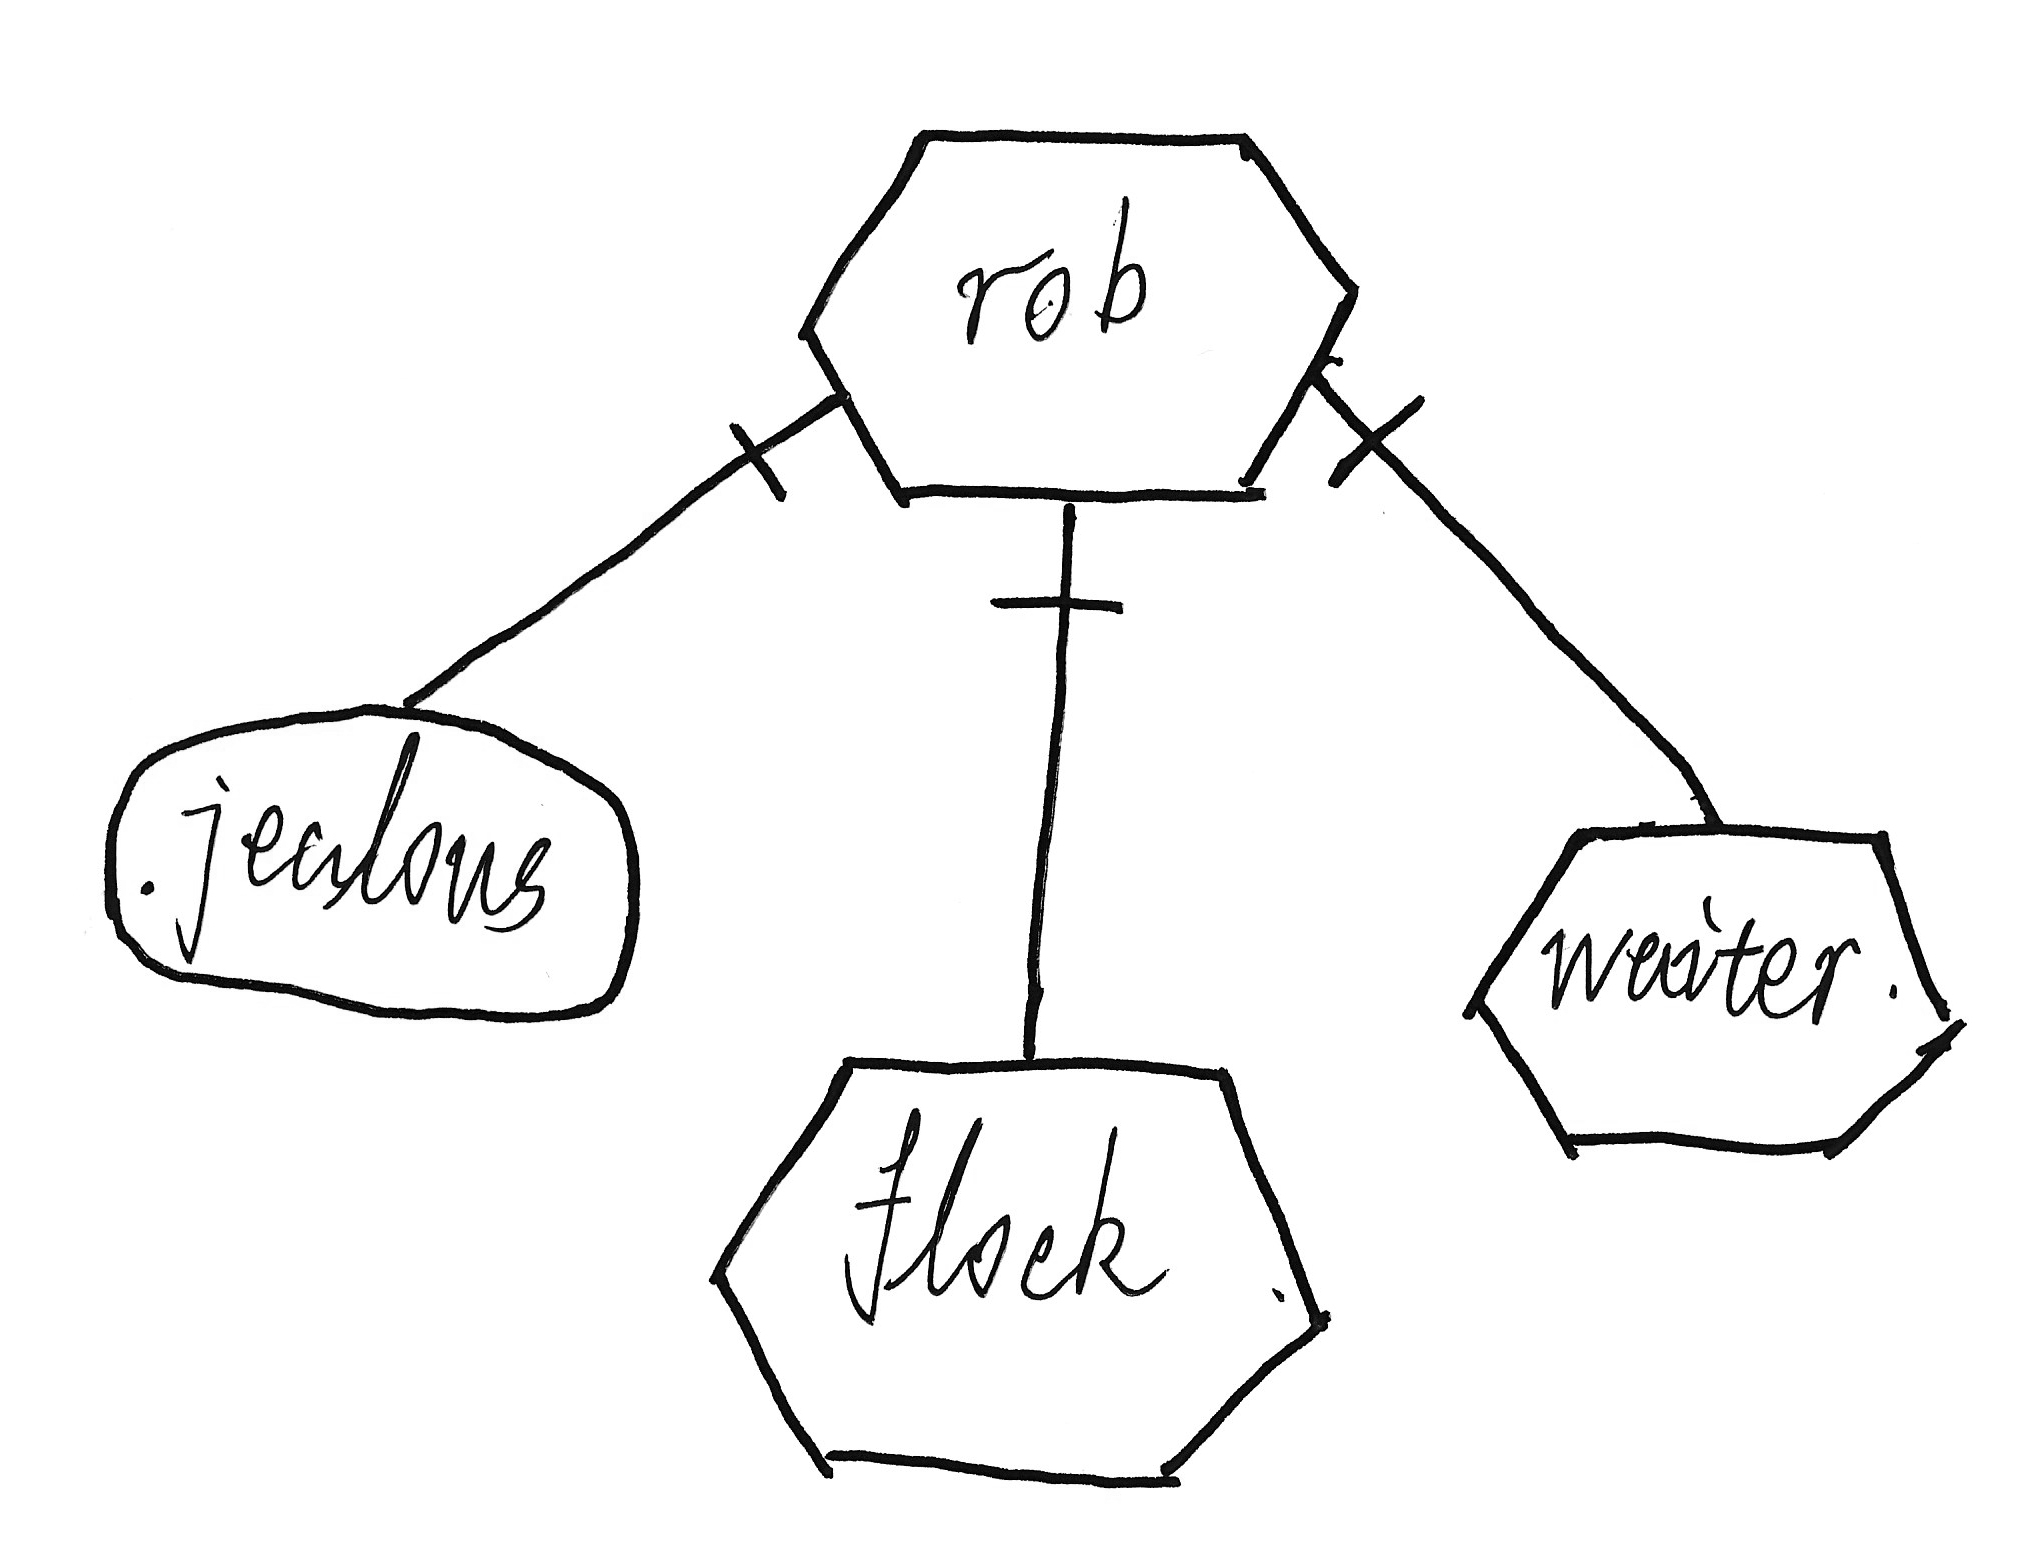and: (982, 529, 1141, 674), (1313, 384, 1453, 519), (703, 395, 814, 530)
goal: (82, 680, 662, 1043)
task: (692, 1033, 1355, 1517), (786, 100, 1374, 535), (1444, 804, 1989, 1183)
